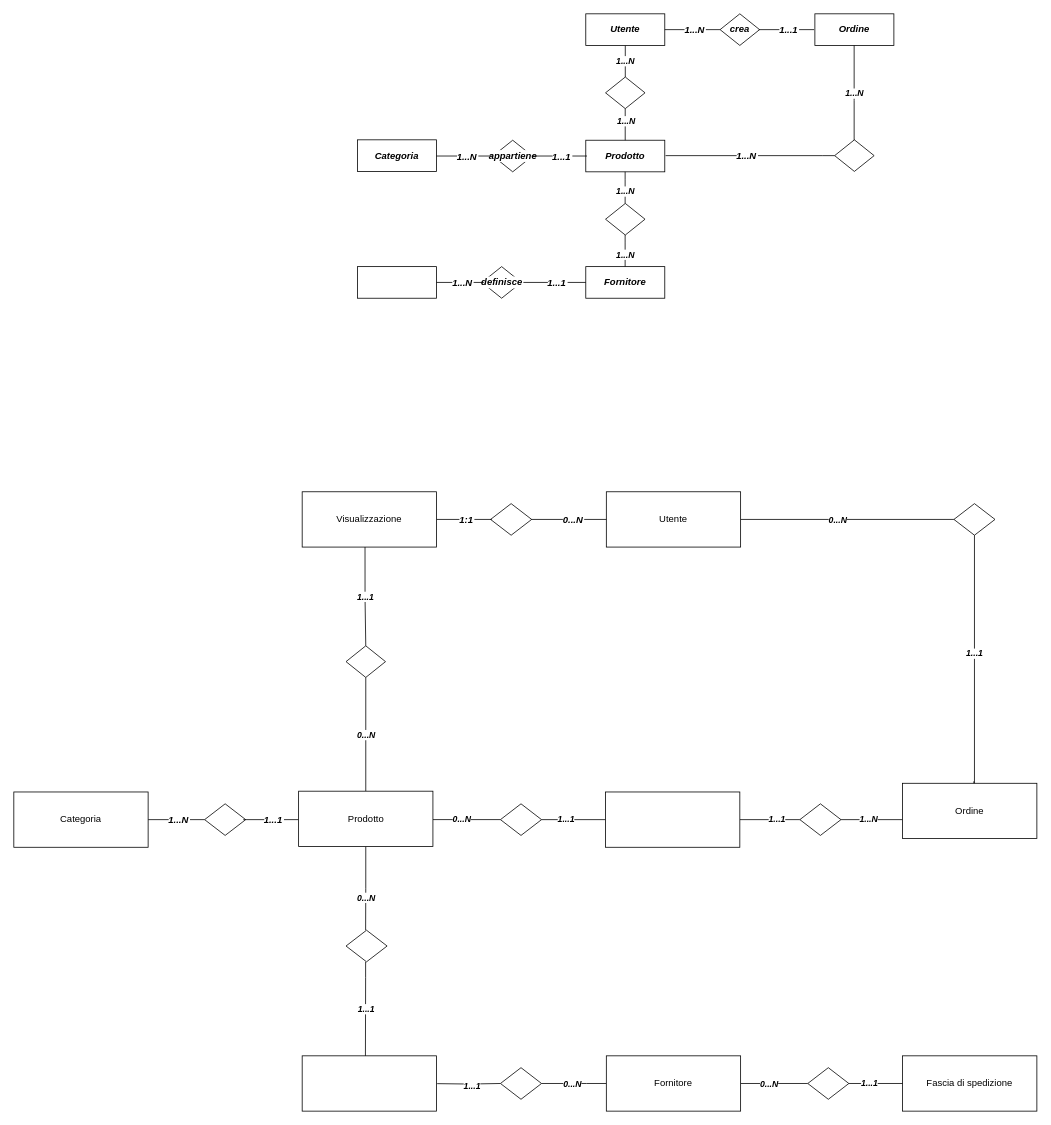
Some shapes in this 1051 by 1125 pixel diagram are drawn without their labels. Each missing label, with the centre of its shape:
"contiene" belongs at [854,155].
"Dettaglio Ordine" belongs at [672,819].
"Fascia di spesa" belongs at [396,282].
"ha visualizzato" belongs at [625,92].
"Prodotto di un fornitore" belongs at [368,1083].
"vende" belongs at [625,219].
